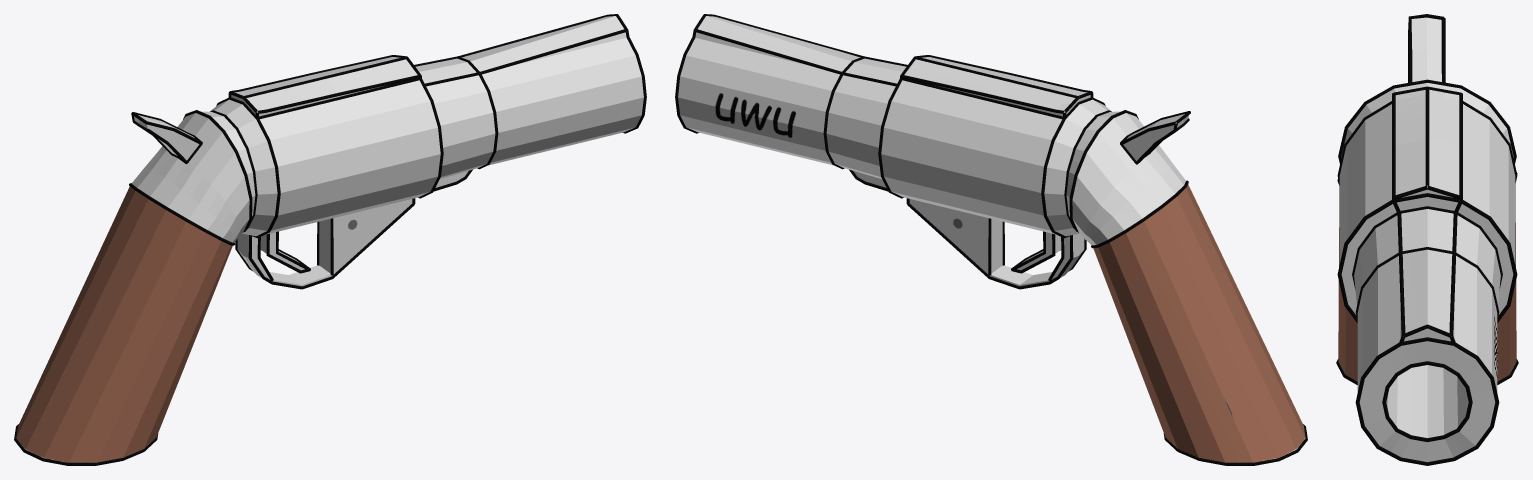
File: gun.glb
3 renders of one model, left to right at view 1: azimuth 30°, elevation 25°; view 2: azimuth 150°, elevation 25°; view 3: azimuth 270°, elevation 25°, orthographic. The views are drawn at different scales.
Parts seen in each view (by area): view 1: Cylinder.001; view 2: Cylinder.001; view 3: Cylinder.001.
Boxes of the visible parts, x1,y1,x2,y2 form: Cylinder.001: (14,14,646,465); Cylinder.001: (675,14,1307,465); Cylinder.001: (1336,14,1518,465).
Bounding box in the file's own units: 4.29 × 2.13 × 0.914.
2 materials, 1 textured.
